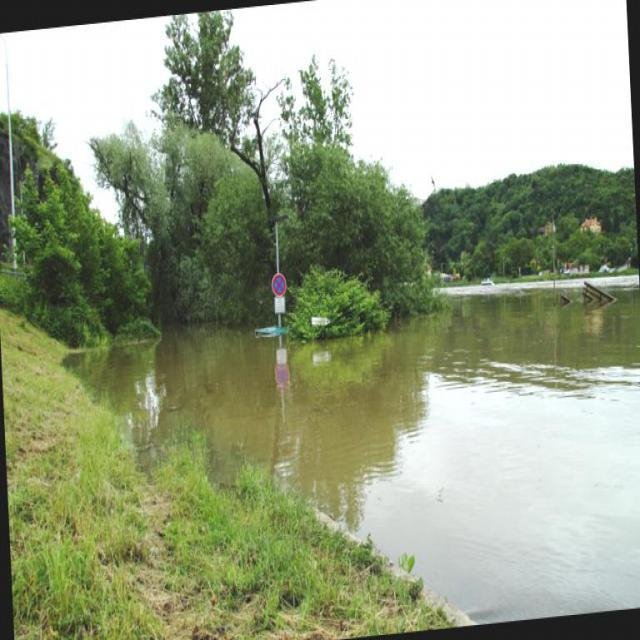flood: (67, 283, 639, 639)
